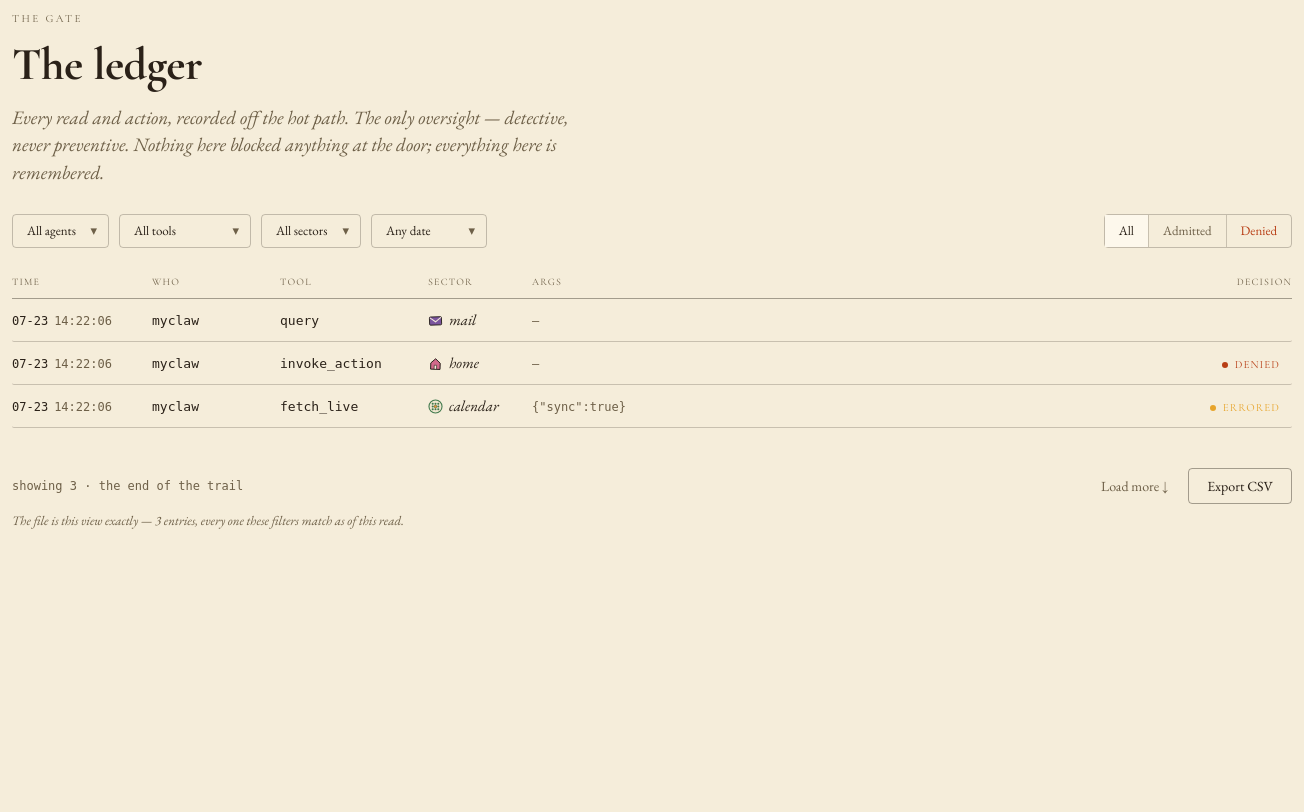
Test: #78 — the three decision states reach the screen › #78 drill — activating the errored row shows the full record (request id, outcome)
The image size is (1304, 812).
Check: the text "fetch_live" is shown, box [280,399,358,414]
Click the text "fetch_live": {"x": 652, "y": 407} [12,385,1292,428]
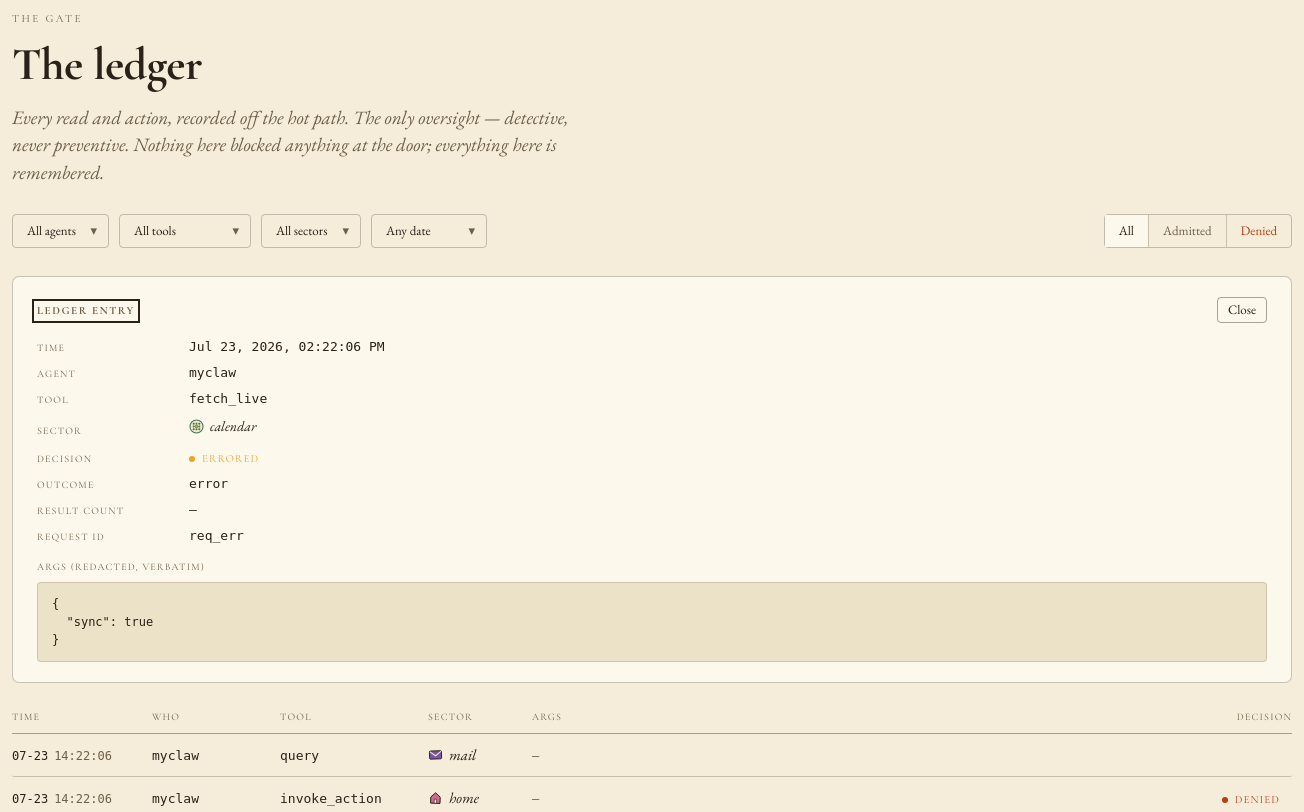
Check: the heading "Ledger entry" is shown, box [37,304,135,318]
Check: the text "req_err" is shown, box [189,528,244,543]
Check: the element "Ledger entry" shows "error", box [189,476,228,491]
